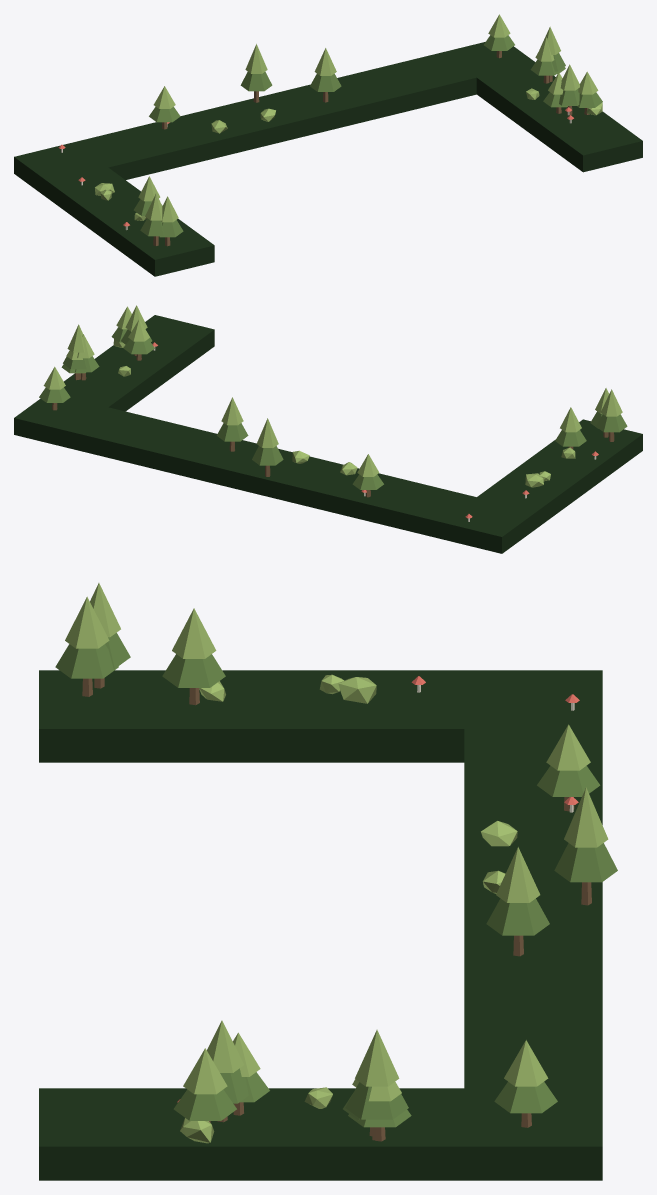
Rendered from forest.glb.
3 renders of one model, top to bottom at view 1: azimuth 30°, elevation 25°; view 2: azimuth 150°, elevation 25°; view 3: azimuth 270°, elevation 25°, orthographic. The views are drawn at different scales.
Parts seen in each view (by area): view 1: field_forest; view 2: field_forest; view 3: field_forest.
Boxes of the visible parts, bbox=[...] form: field_forest: bbox=[14, 14, 642, 276]; field_forest: bbox=[14, 305, 642, 553]; field_forest: bbox=[39, 583, 617, 1180].
Bounding box in the file's own units: 10.69 × 1.55 × 5.45.
